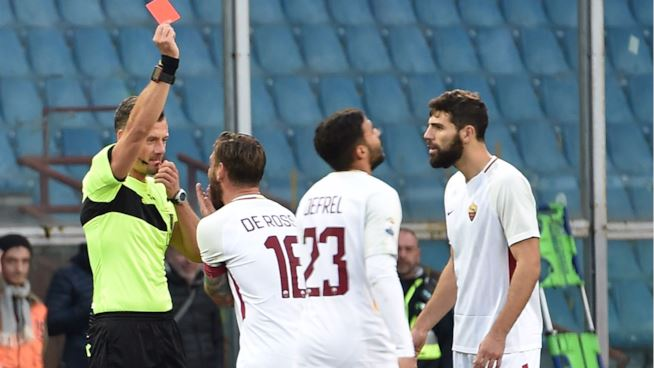red_card: (138, 0, 195, 58)
